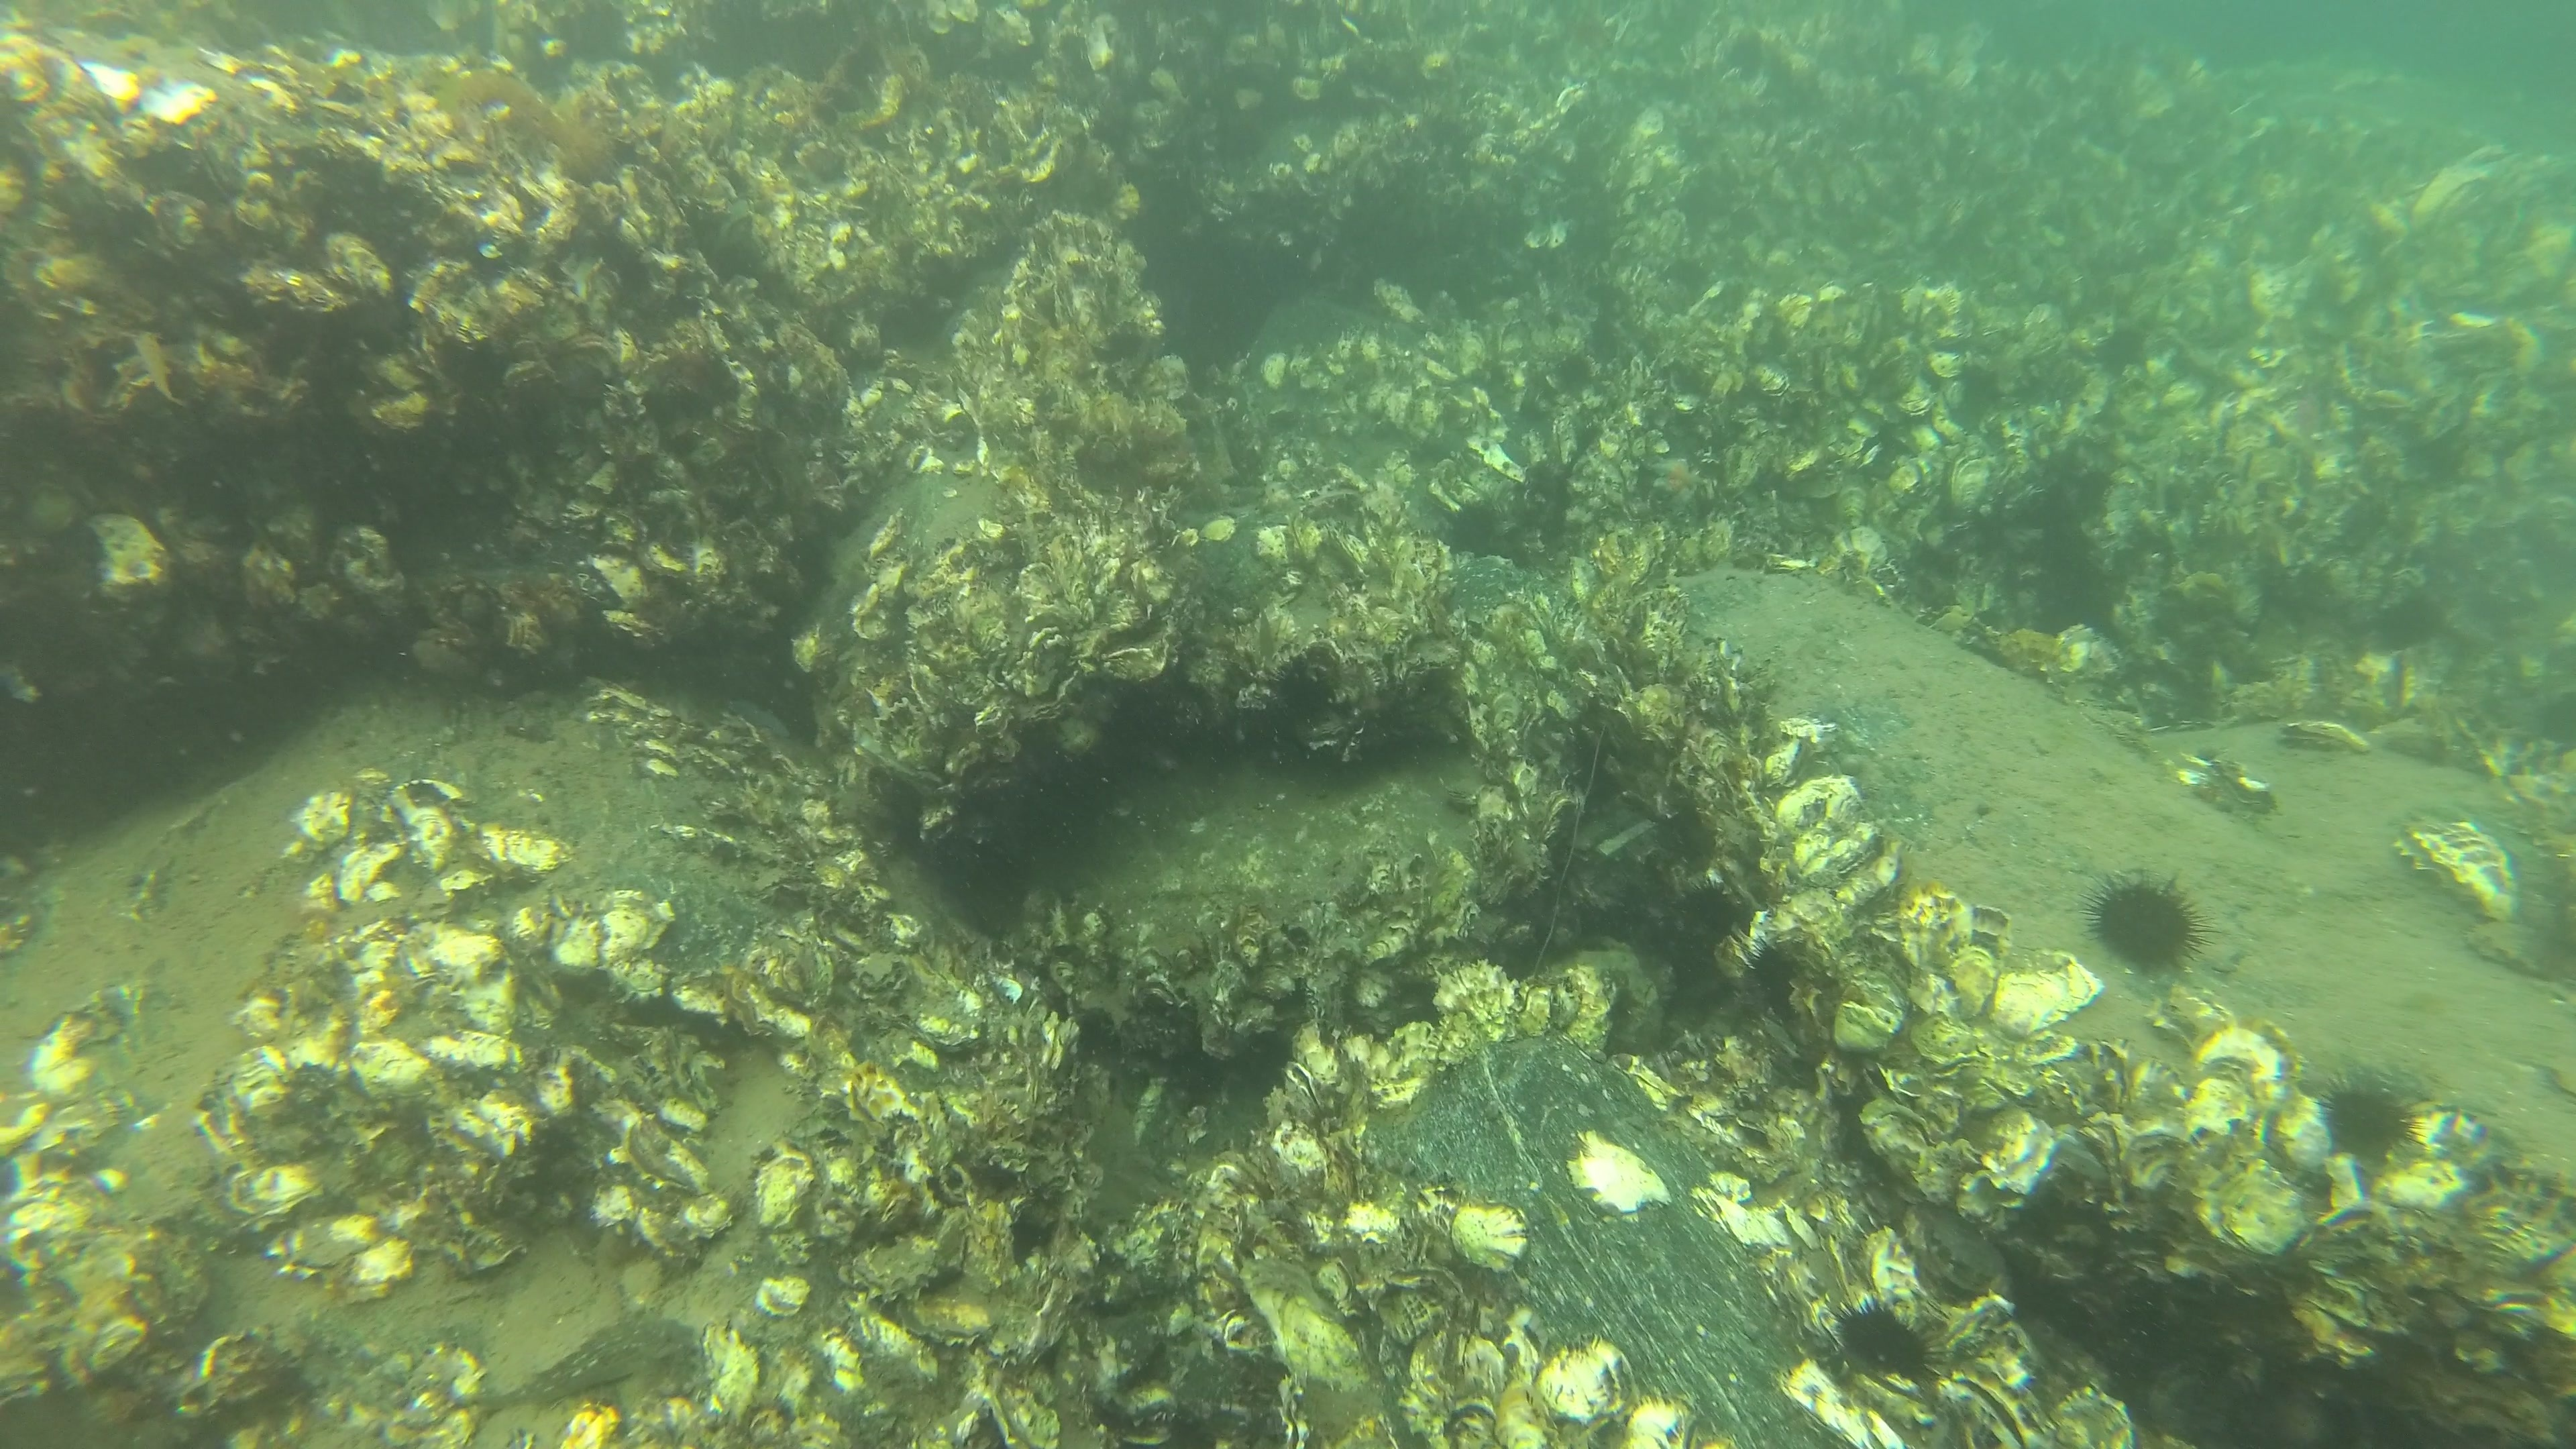echinus: (2079, 862, 2219, 980), (1829, 1293, 1962, 1396), (2316, 1069, 2427, 1171)
starfish: (1652, 453, 1709, 504)
